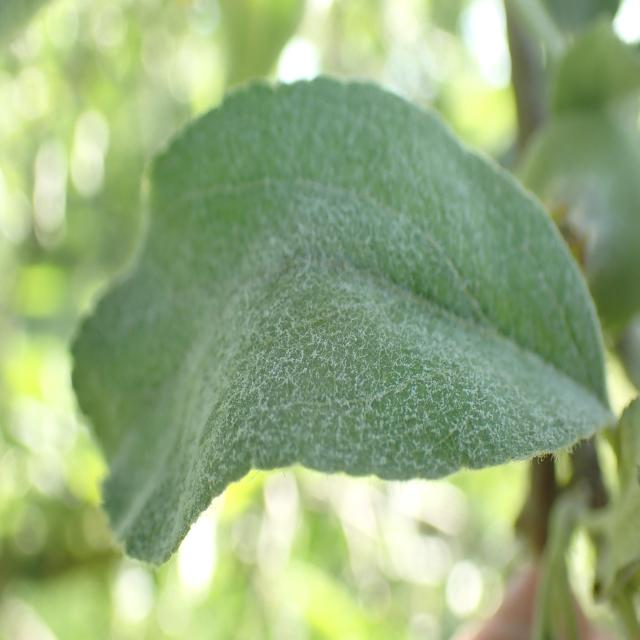Powdery_mildew: (82, 62, 624, 584)
